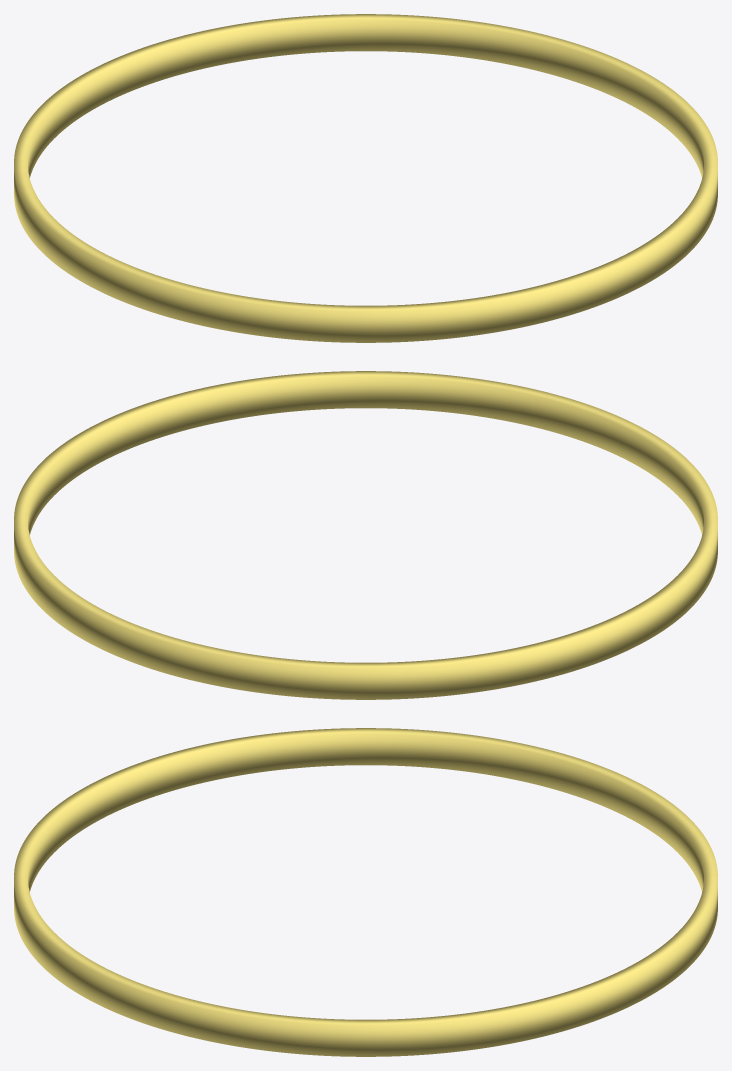
Rendered from coil_coil_5_tube.gltf.
3 views of the same model, one above another, from view 1: azimuth 30°, elevation 25°; view 2: azimuth 150°, elevation 25°; view 3: azimuth 270°, elevation 25° (orthographic).
Parts seen in each view (by area): view 1: Renderer Node; view 2: Renderer Node; view 3: Renderer Node.
Boxes of the visible parts, <box> form: Renderer Node: <box>14,14,717,342</box>; Renderer Node: <box>14,371,717,699</box>; Renderer Node: <box>14,728,717,1056</box>.
Bounding box in the file's own units: 0.612 × 0.03 × 0.612.
